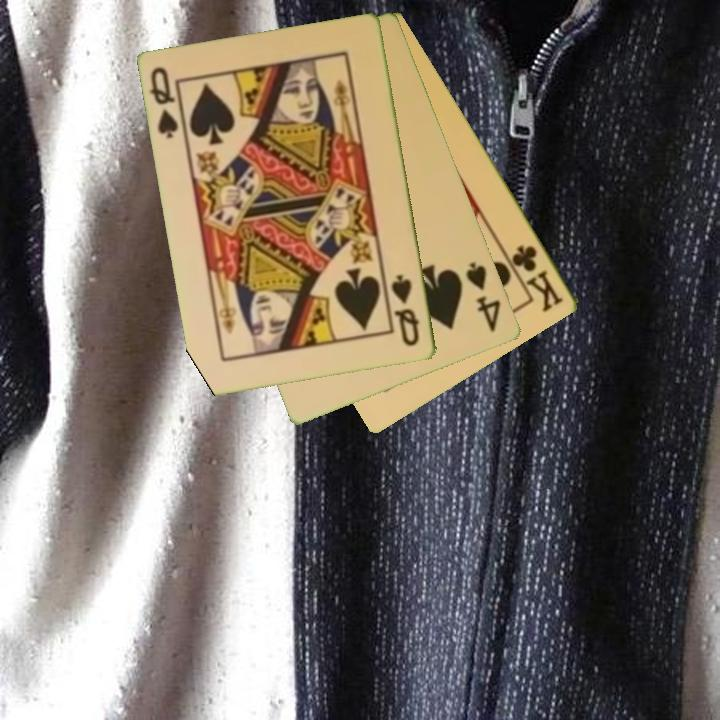4s: (462, 258, 505, 336)
Kc: (508, 241, 568, 315)
Qs: (146, 63, 182, 141), (388, 271, 423, 350)
